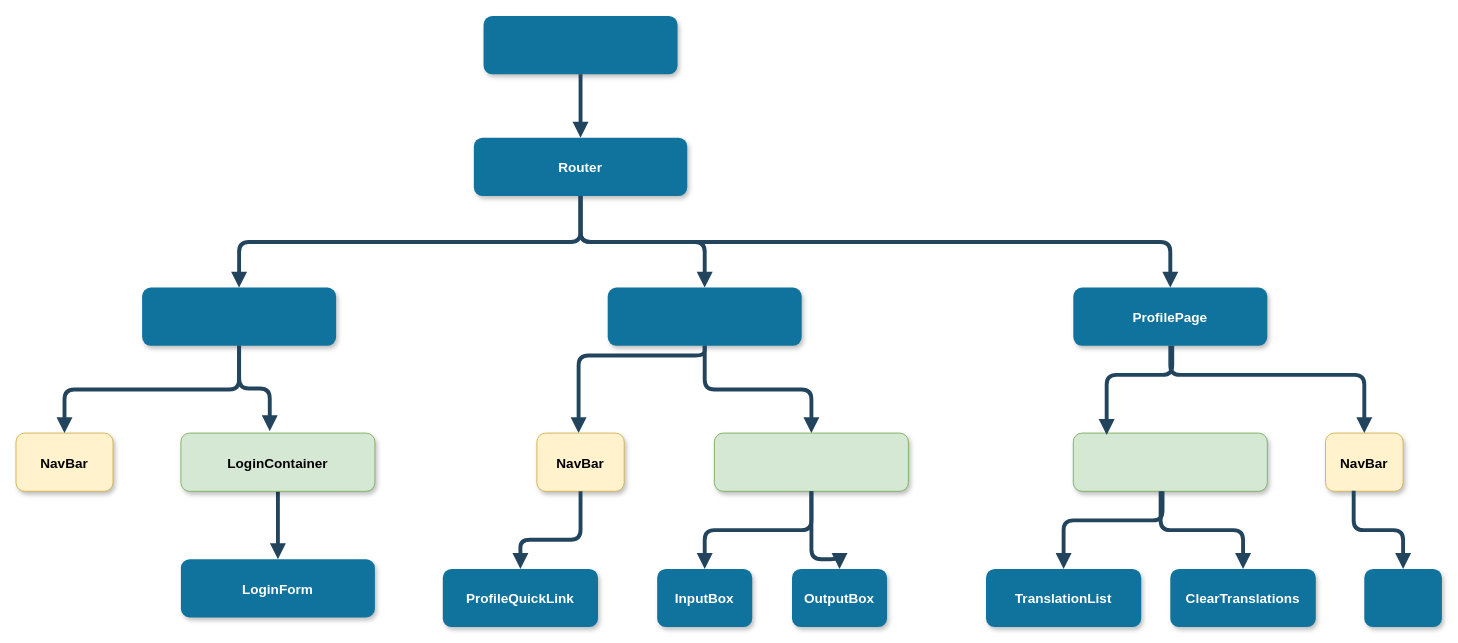
The diagram is 1458 pixels wide and 643 high, and some of its shapes have lost their labels. Here are the shapes that lost their labels. From the top down, the centre of each, then its label:
the point at 581,46: APP
the point at 239,317: LoginPage
the point at 705,317: TranslationPage
the point at 812,463: TranslationContainer
the point at 1170,463: ProfileContainer
the point at 1403,599: LogOut
